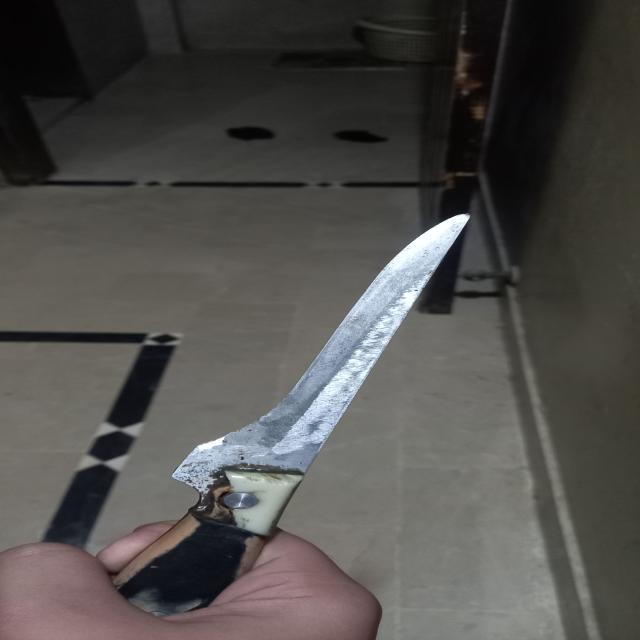Knife: (79, 207, 477, 637)
